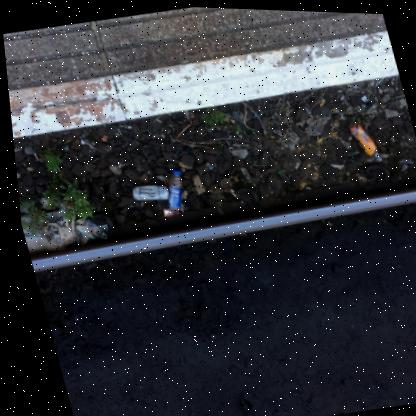Metal: (128, 184, 165, 199), (202, 161, 207, 166), (176, 166, 181, 170), (205, 163, 210, 167)
Paper: (16, 200, 103, 253)
Plastic: (345, 118, 380, 159), (163, 168, 179, 211), (159, 207, 175, 215), (359, 92, 367, 99), (172, 148, 176, 154)
Waste: (373, 74, 383, 83), (303, 104, 309, 112), (31, 151, 36, 160), (169, 167, 177, 172), (393, 91, 403, 95), (182, 145, 188, 150)
